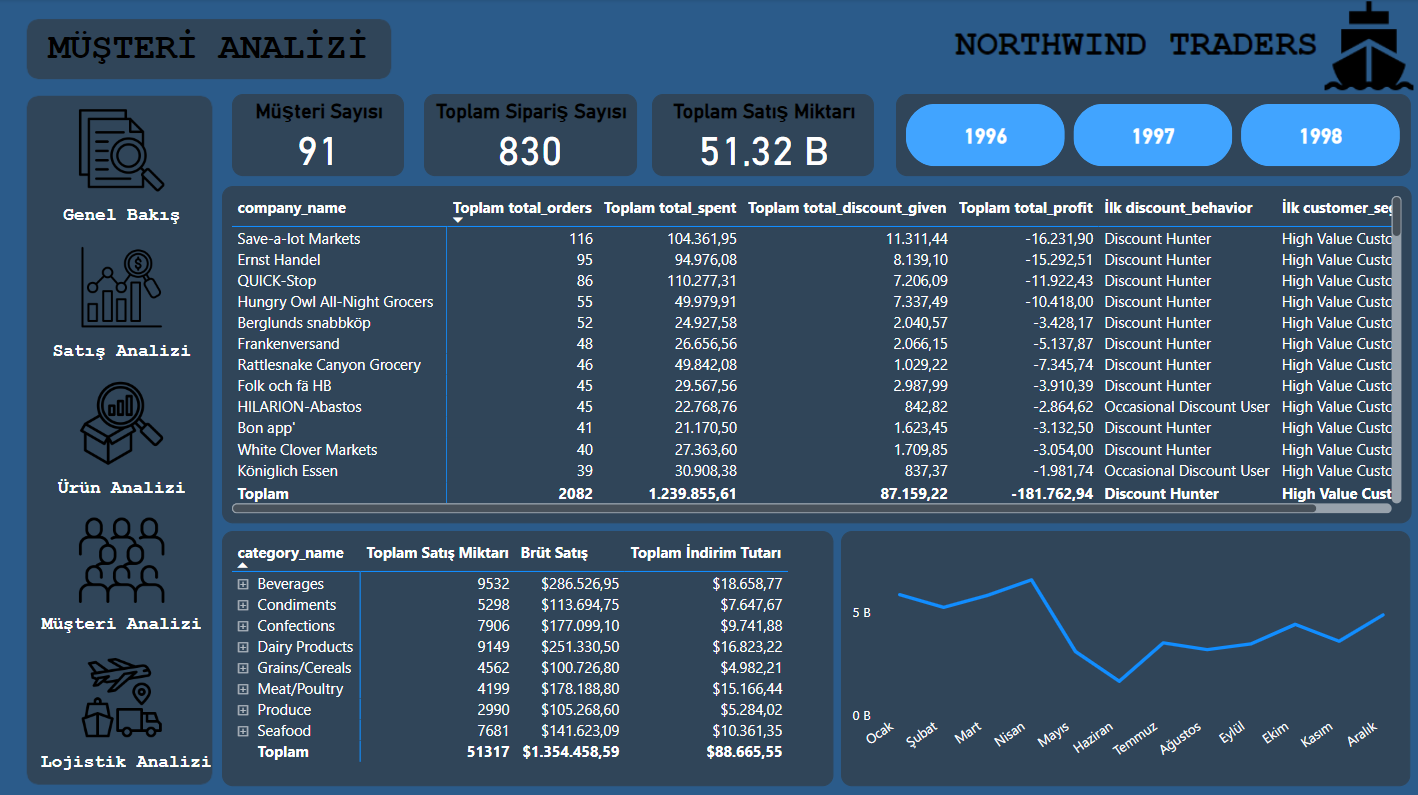

The page's visual inventory and layout, read from the dashboard file:
{"tool":"powerbi","page":{"name":"MÜŞTERİ ANALİZİ","canvas":[1280,720],"ordinal":3},"visuals":[{"type":"textbox","box":[27,21,323,54],"z":0},{"type":"image","box":[27,586,167,87],"z":1000},{"type":"image","box":[27,462,167,87],"z":2000},{"type":"image","box":[27,216,167,87],"z":3000},{"type":"image","box":[27,93,167,87],"z":4000},{"type":"image","box":[27,339,167,87],"z":5000},{"type":"textbox","box":[27,673,175,36],"z":6000},{"type":"textbox","box":[27,549,167,36],"z":7000},{"type":"textbox","box":[27,426,167,36],"z":8000},{"type":"textbox","box":[27,303,167,36],"z":9000},{"type":"textbox","box":[27,180,167,36],"z":10000},{"type":"card","title":"Müşteri Sayısı","fields":{"Values":["Hesaplamalar(Dax).Toplam Müşteri Sayısı"]},"box":[210.1,86,155.2,74.5],"z":11000},{"type":"card","title":"Toplam Sipariş Sayısı","fields":{"Values":["Hesaplamalar(Dax).Toplam Sipariş Sayısı"]},"box":[383.1,86,191.5,74.5],"z":12000},{"type":"card","title":"Toplam Satış Miktarı","fields":{"Values":["Hesaplamalar(Dax).Toplam Satış Miktarı"]},"box":[588.8,86,200.4,74.5],"z":13000},{"type":"pivotTable","fields":{"Rows":["Sorgu2.company_name"],"Values":["Sum(Sorgu2.total_orders)","Sum(Sorgu2.total_spent)","Sum(Sorgu2.total_discount_given)","Sum(Sorgu2.total_profit)","Min(Sorgu2.discount_behavior)","Min(Sorgu2.customer_segment)"]},"box":[201.3,168.5,1072,304.1],"z":14000},{"type":"pivotTable","fields":{"Values":["Hesaplamalar(Dax).Toplam Satış Miktarı","Hesaplamalar(Dax).Brüt Satış","Hesaplamalar(Dax).Toplam İndirim Tutarı"],"Rows":["categories.category_name","products.product_name"]},"box":[201.3,479.7,550.6,229.7],"z":15000},{"type":"lineChart","title":"Ay Ölçütüne ","fields":{"Category":["orders.order_date.Varyasyon.Tarih Hiyerarşisi.Ay"],"Y":["Hesaplamalar(Dax).Toplam Satış Miktarı"]},"box":[759,479.7,513.4,229.7],"z":16000},{"type":"advancedSlicerVisual","fields":{"Values":["orders.order_date.Varyasyon.Tarih Hiyerarşisi.Yıl"]},"box":[808.7,86,463.7,74.5],"z":17000}]}

Visuals, with their boxes in screenshot pixels (x1, y1, x2, y2), scaled from the page's 1280x720 canvas onto the 1418x795 screenshot:
textbox: select_region(30, 23, 388, 83)
image: select_region(30, 647, 215, 743)
image: select_region(30, 510, 215, 606)
image: select_region(30, 239, 215, 335)
image: select_region(30, 103, 215, 199)
image: select_region(30, 374, 215, 470)
textbox: select_region(30, 743, 224, 783)
textbox: select_region(30, 606, 215, 646)
textbox: select_region(30, 470, 215, 510)
textbox: select_region(30, 335, 215, 374)
textbox: select_region(30, 199, 215, 239)
"Müşteri Sayısı" card: select_region(233, 95, 405, 177)
"Toplam Sipariş Sayısı" card: select_region(424, 95, 637, 177)
"Toplam Satış Miktarı" card: select_region(652, 95, 874, 177)
pivotTable - Sorgu2.company_name x Sum(Sorgu2.total_orders): select_region(223, 186, 1411, 522)
pivotTable - Hesaplamalar(Dax).Toplam Satış Miktarı x Hesaplamalar(Dax).Brüt Satış: select_region(223, 530, 833, 783)
"Ay Ölçütüne " lineChart: select_region(841, 530, 1410, 783)
advancedSlicerVisual - orders.order_date.Varyasyon.Tarih Hiyerarşisi.Yıl: select_region(896, 95, 1410, 177)
